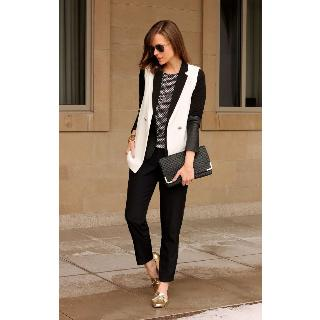loafers: (140, 252, 172, 312)
